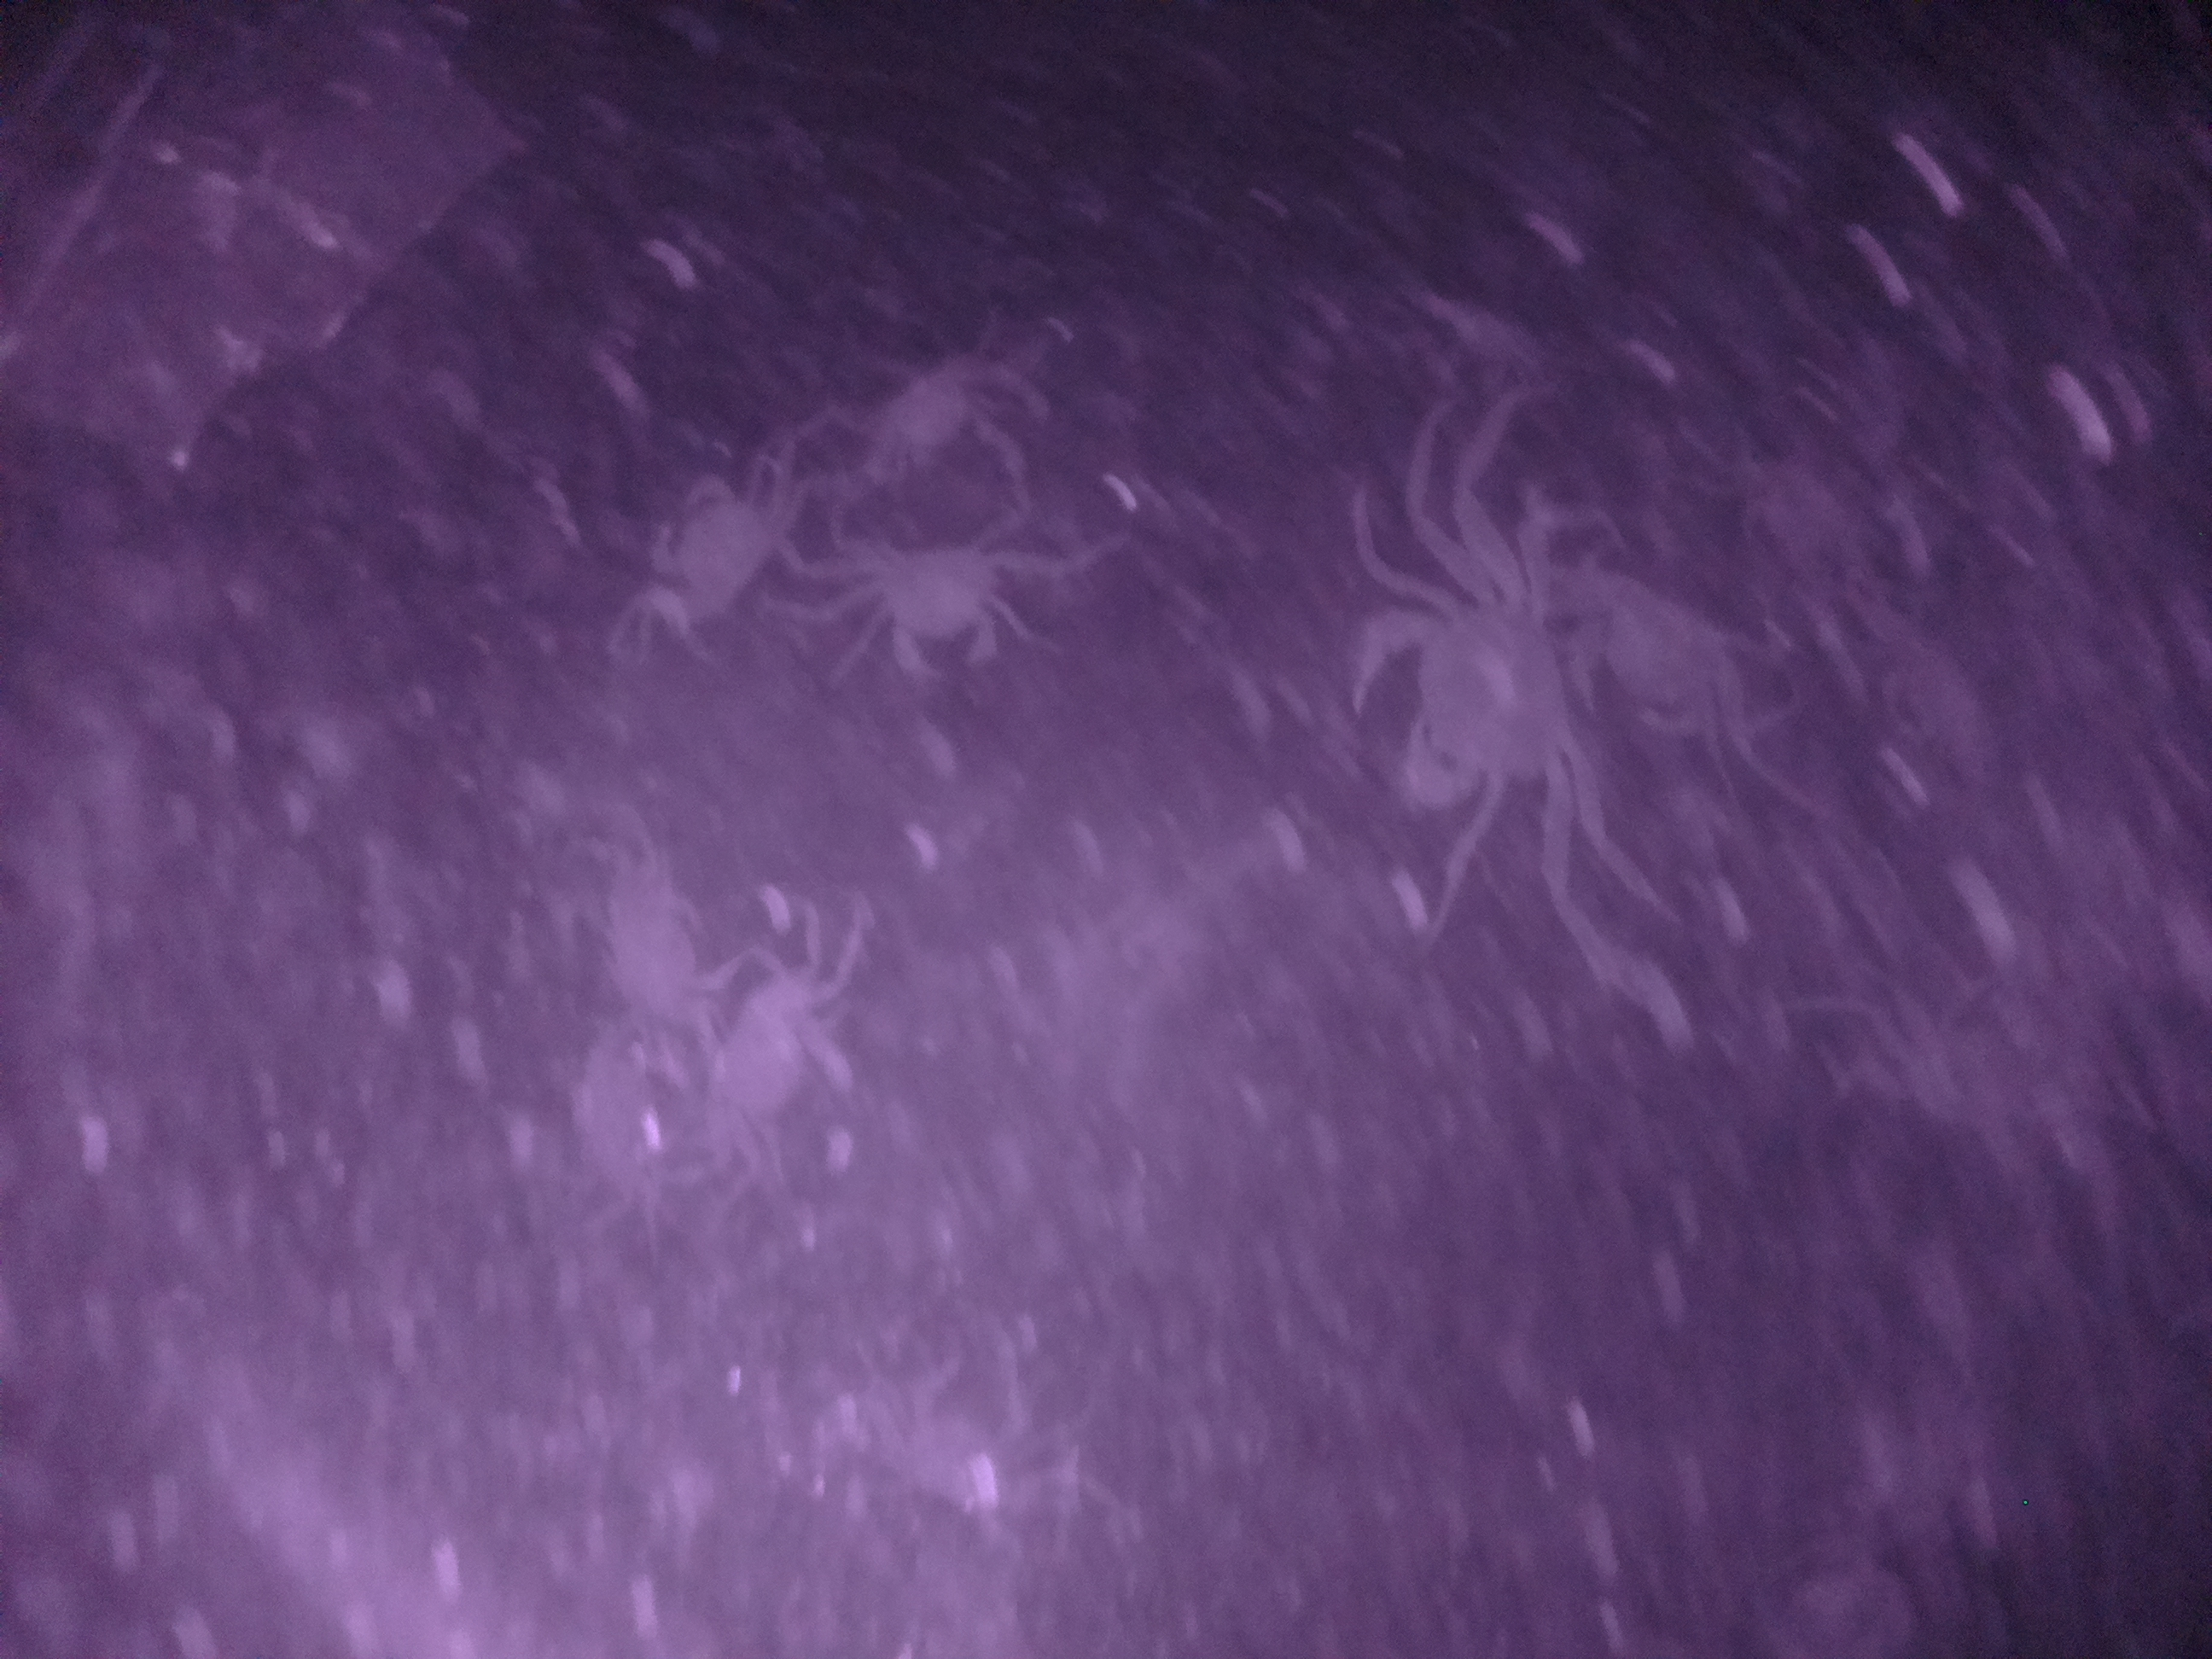Crab: (1341, 551, 1611, 843), (637, 439, 792, 647), (833, 528, 1031, 676)
